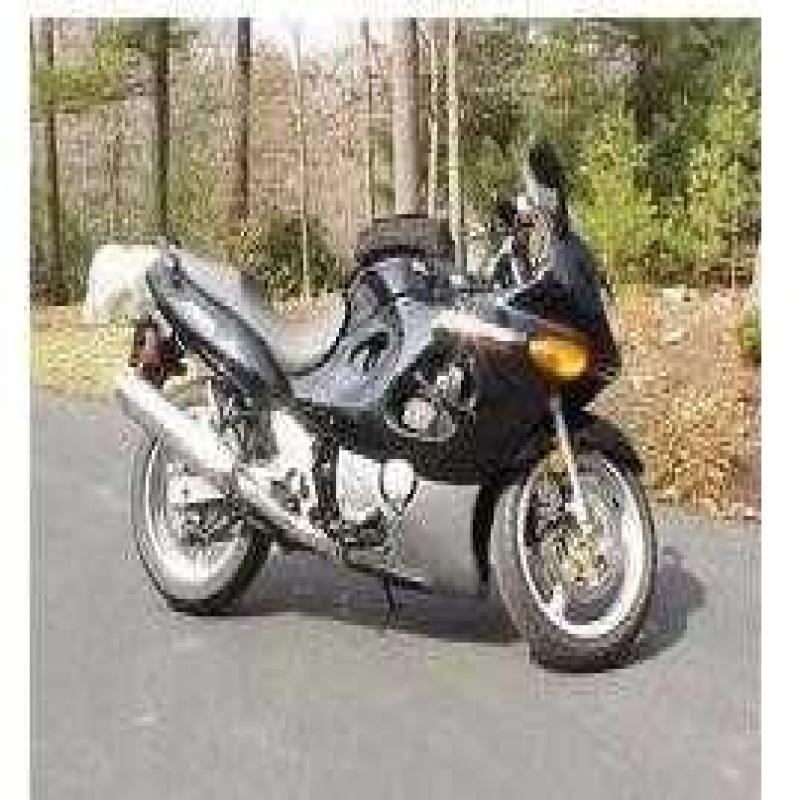bike: (83, 132, 657, 678)
